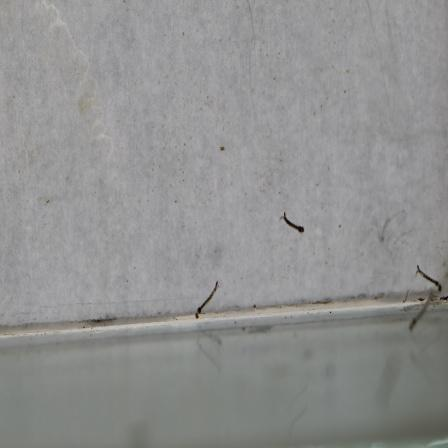Jentik-Nyamuk: (192, 278, 220, 321), (413, 262, 443, 296), (279, 211, 306, 236)
